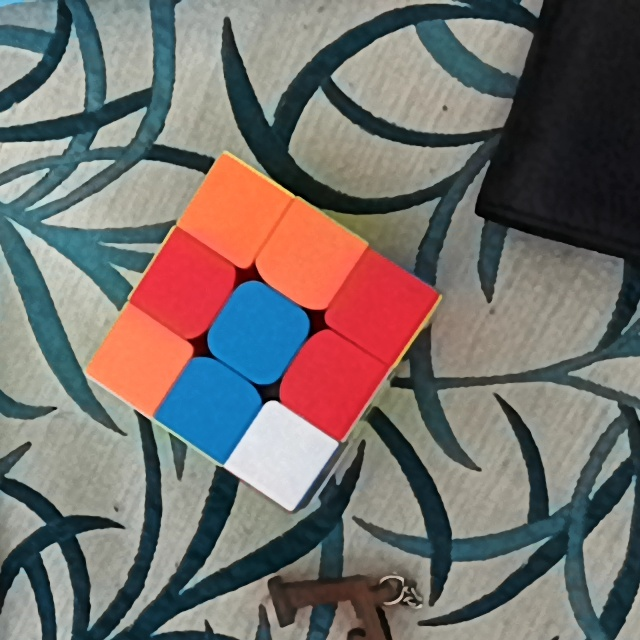tile: (349, 279, 412, 338), (278, 229, 338, 289), (302, 351, 360, 412), (178, 382, 240, 438), (229, 303, 292, 358), (204, 185, 263, 243), (159, 259, 214, 316), (109, 335, 167, 389), (256, 427, 311, 481)
